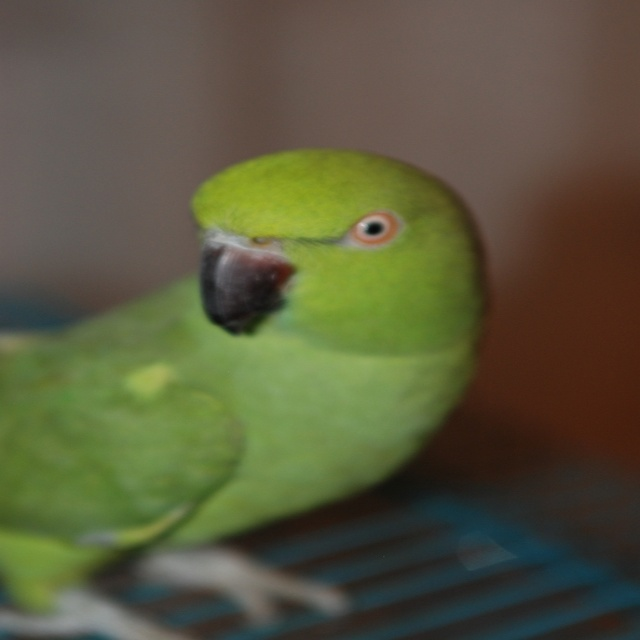Parrot: (0, 142, 494, 639)
